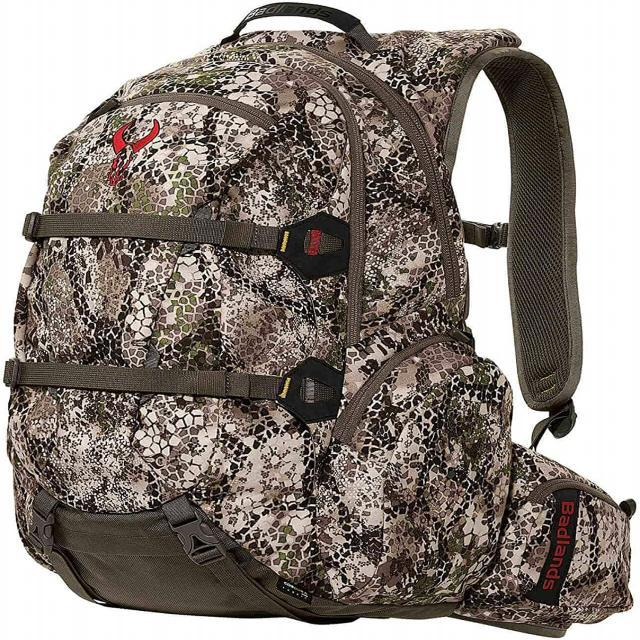Backpacks: (8, 31, 520, 626)
